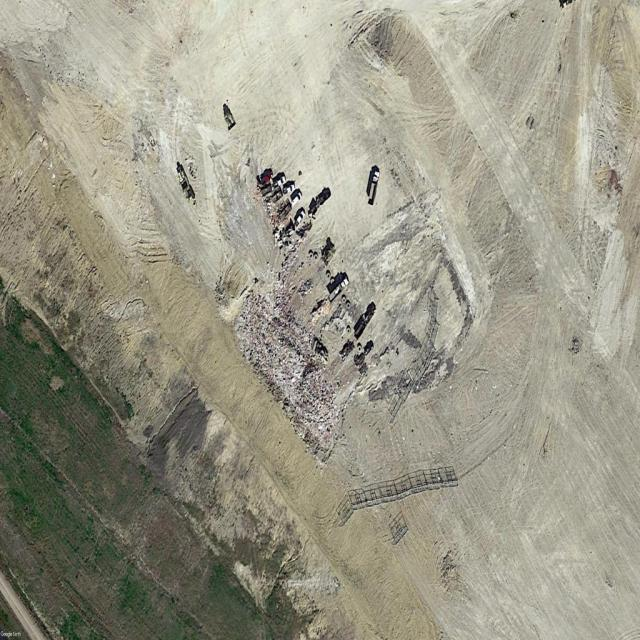dump_site: (228, 257, 357, 466)
